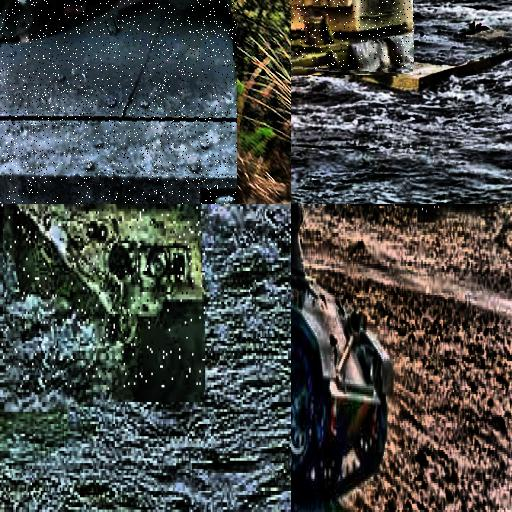tanks: (1, 1, 238, 205), (2, 205, 205, 391), (292, 205, 393, 497), (292, 1, 414, 70), (420, 205, 480, 213)
